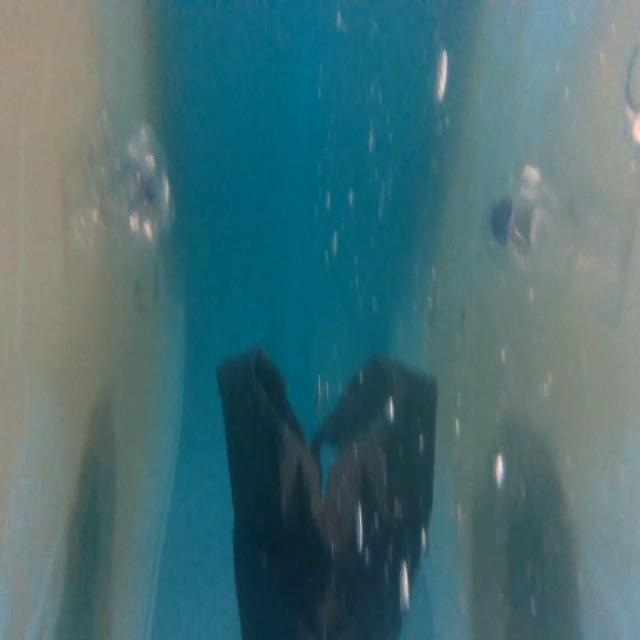plastic bags: (213, 345, 442, 640)
